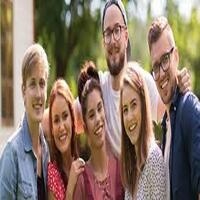person: (73, 61, 116, 154), (145, 14, 188, 101), (94, 2, 139, 76), (42, 68, 79, 157), (109, 72, 152, 145), (18, 31, 49, 127)
